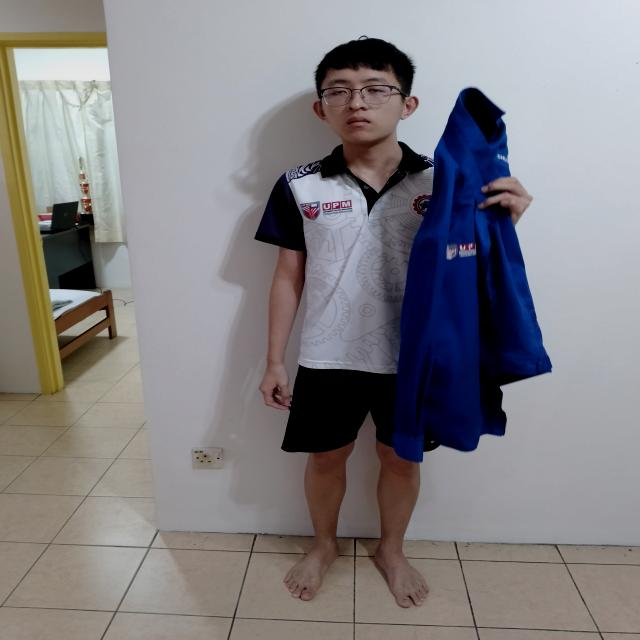person_without_labcoat: (255, 38, 551, 607)
